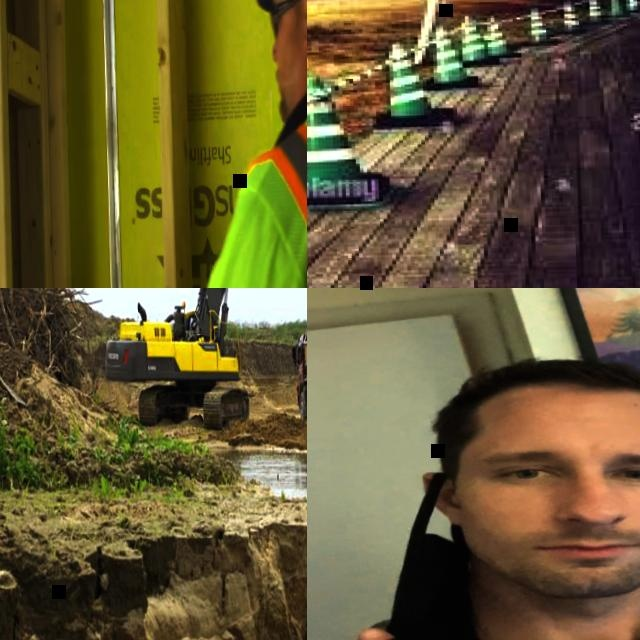NO-Hardhat: (419, 354, 640, 429)
NO-Mask: (430, 487, 640, 602), (275, 27, 307, 117)
Person: (307, 342, 640, 640), (121, 0, 307, 288)
Safety Cone: (307, 74, 388, 212), (363, 43, 460, 135), (413, 24, 478, 88), (446, 13, 493, 72), (475, 6, 515, 62), (555, 0, 587, 35), (527, 7, 556, 45), (584, 0, 612, 15), (609, 0, 628, 15), (624, 0, 640, 13)
Safety Vest: (178, 96, 307, 288)
machinery: (99, 288, 307, 432)
